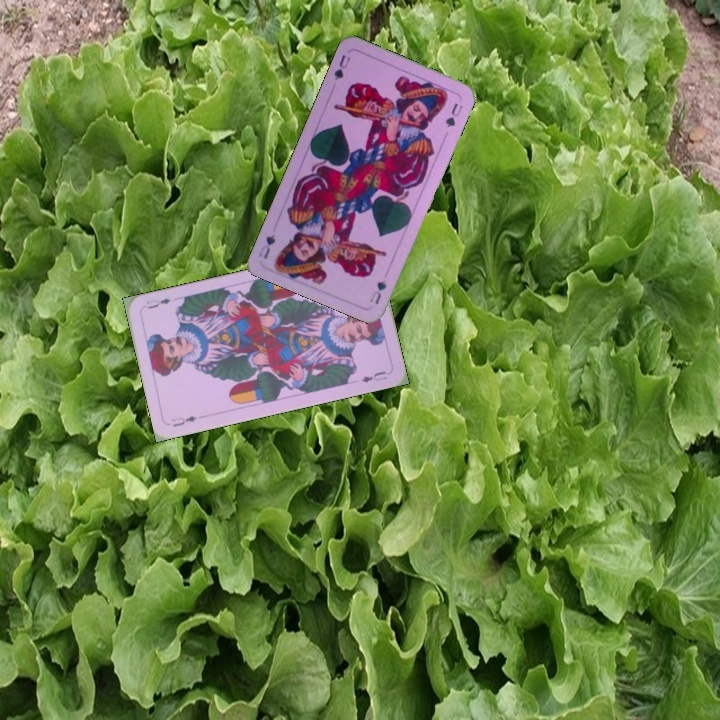EU: (168, 412, 199, 429)
GU: (330, 50, 353, 83), (366, 276, 389, 307)
